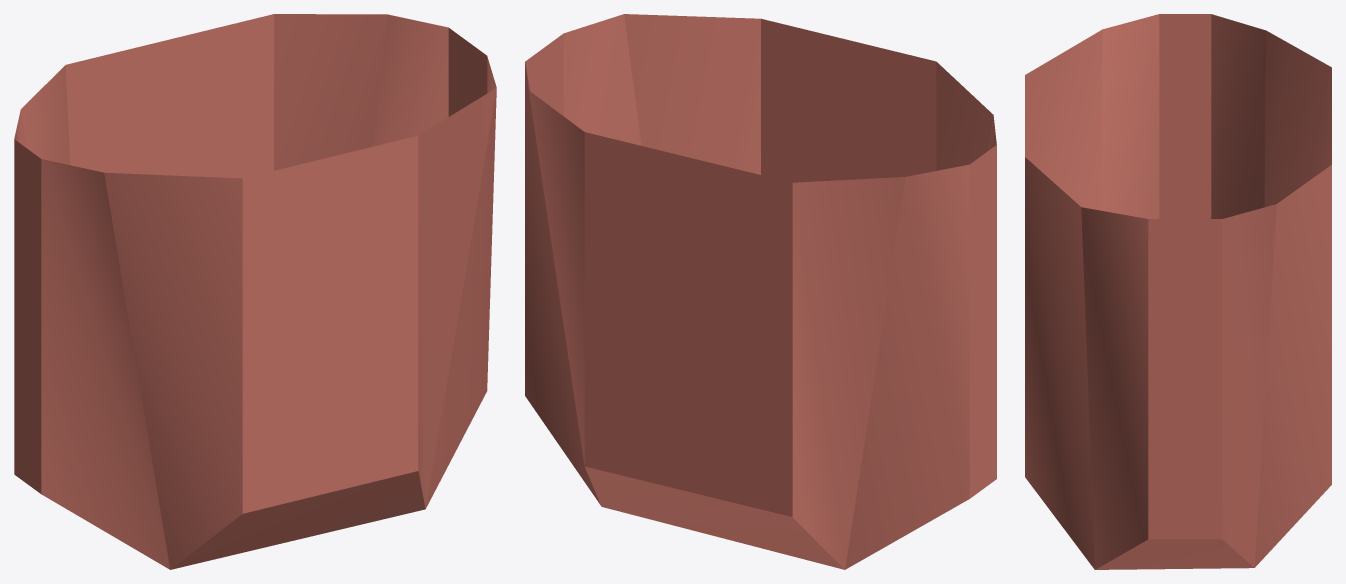
The model's file is cajita.gltf.
The picture shows the model from 3 angles, left to right: view 1: azimuth 30°, elevation 25°; view 2: azimuth 150°, elevation 25°; view 3: azimuth 270°, elevation 25°; orthographic projection. The views are drawn at different scales.
Parts seen in each view (by area): view 1: cajits; view 2: cajits; view 3: cajits.
Boxes of the visible parts, bbox=[...] form: cajits: bbox=[14, 14, 496, 569]; cajits: bbox=[525, 14, 996, 569]; cajits: bbox=[1025, 14, 1331, 569].
Size of the model in its own units: 0.1964 by 0.1753 by 0.1241.
